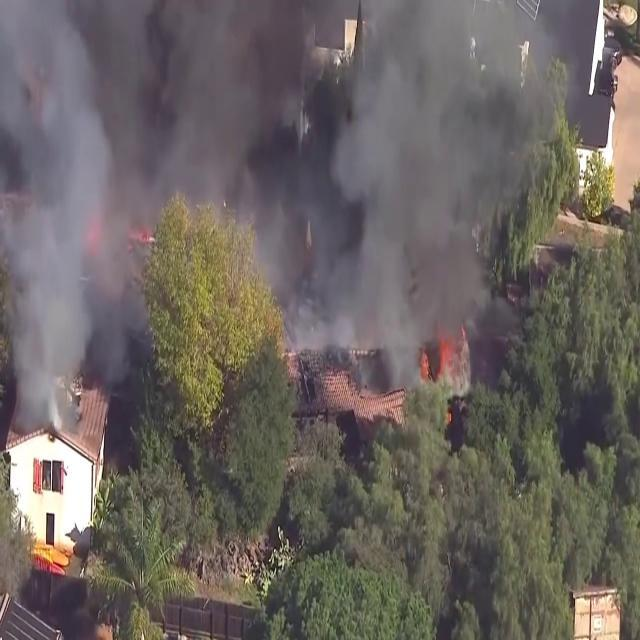Smoke: (204, 0, 546, 332), (0, 0, 172, 430)
